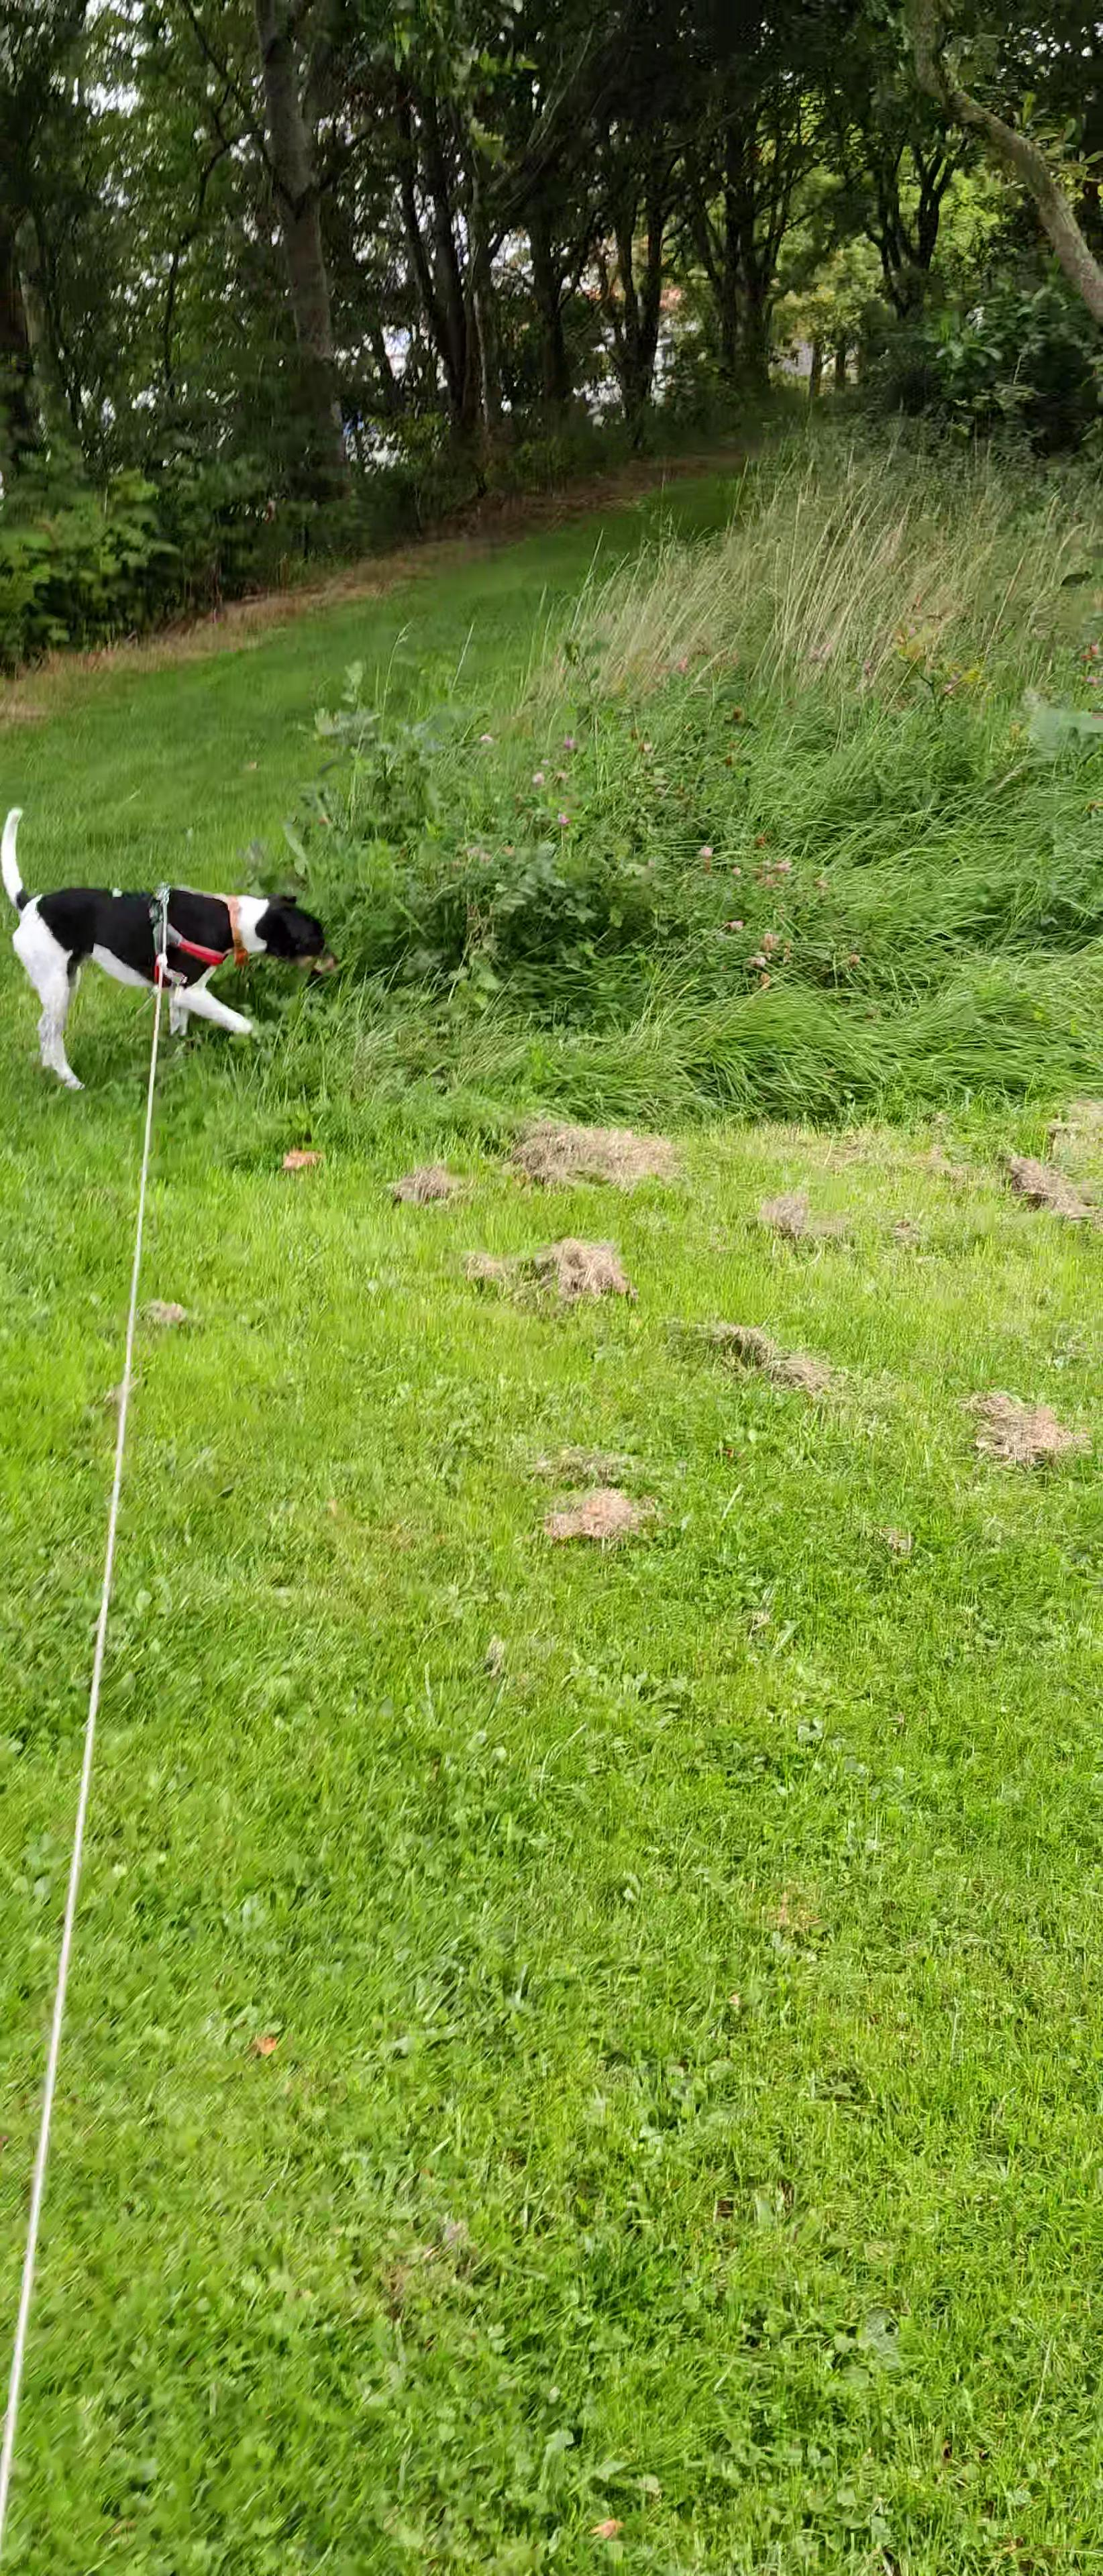Dog: (25, 797, 347, 1091)
